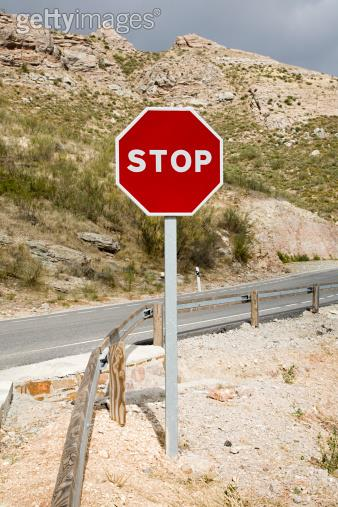stop_sign: (116, 104, 221, 215)
